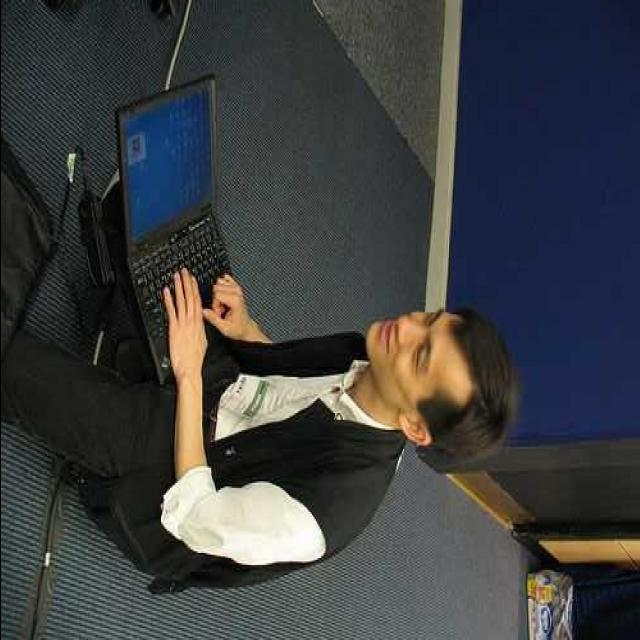laptop: (84, 61, 234, 347)
